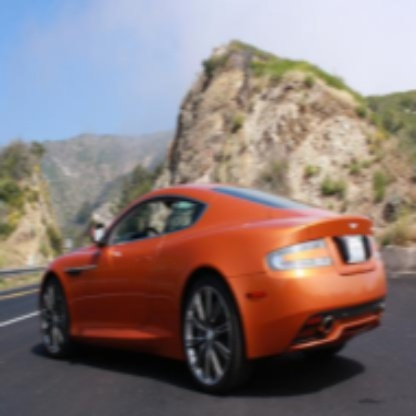Vehicle: (24, 177, 391, 392)
